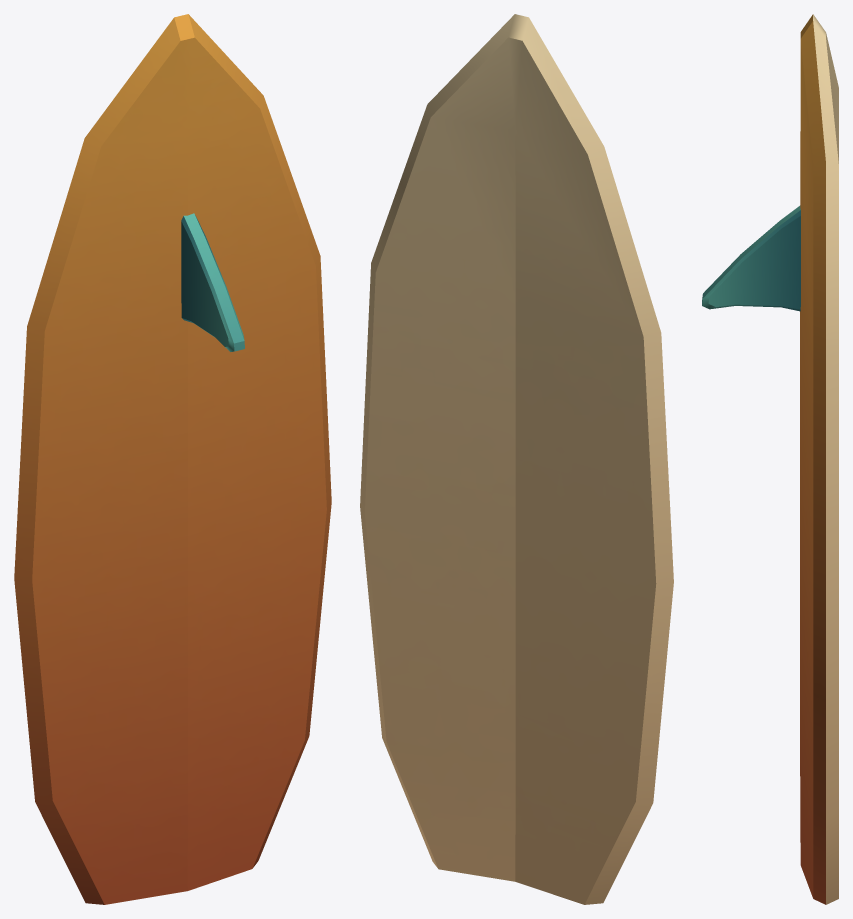
Rendered from SM_SurfBoard_001.fbx.
3 renders of one model, left to right at view 1: azimuth 30°, elevation 25°; view 2: azimuth 150°, elevation 25°; view 3: azimuth 270°, elevation 25°, orthographic. The views are drawn at different scales.
Parts seen in each view (by area): view 1: SurfBoard_001; view 2: SurfBoard_001; view 3: SurfBoard_001.
Boxes of the visible parts, x1,y1,x2,y2 form: SurfBoard_001: [14, 14, 331, 904]; SurfBoard_001: [360, 14, 673, 904]; SurfBoard_001: [702, 14, 838, 904].
Bounding box in the file's own units: 82.03 × 215 × 31.48.
Materials: 1 (1 with a texture image).
